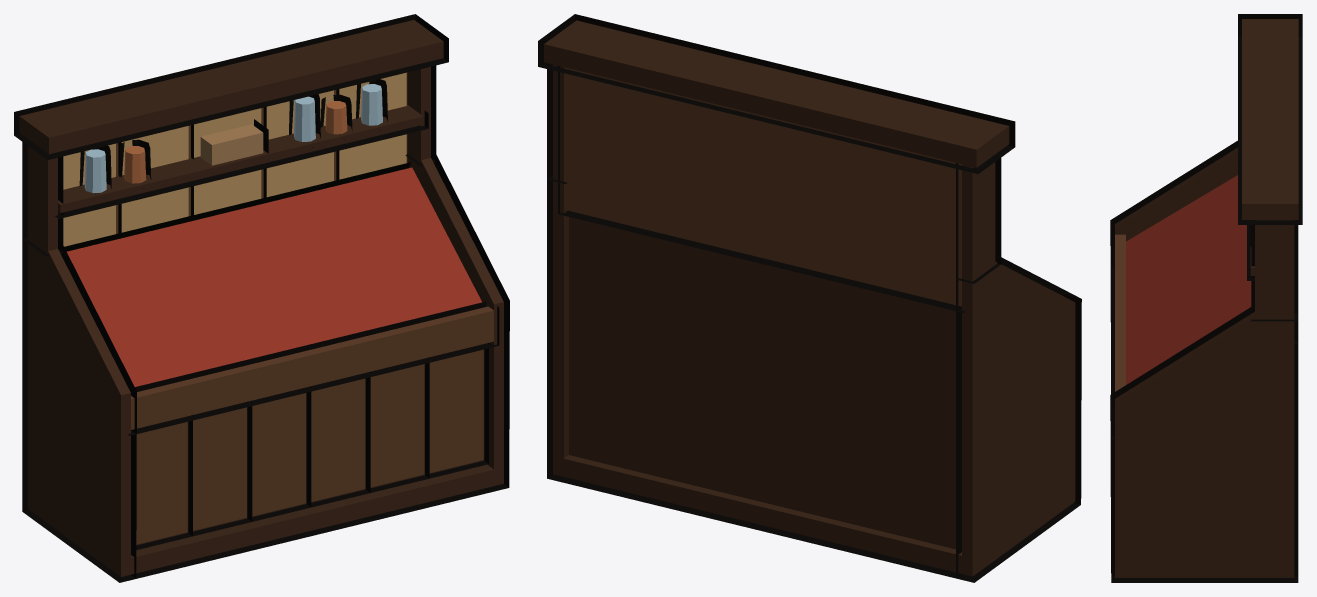
The model's file is cardshelf.glb.
3 views of the same model, side by side, from view 1: azimuth 30°, elevation 25°; view 2: azimuth 150°, elevation 25°; view 3: azimuth 270°, elevation 25° (orthographic). The views are drawn at different scales.
Visible parts, largest first — view 1: Prop_forge_cardshelf; view 2: Prop_forge_cardshelf; view 3: Prop_forge_cardshelf.
Boxes of the visible parts, bbox=[...] form: Prop_forge_cardshelf: bbox=[14, 14, 509, 582]; Prop_forge_cardshelf: bbox=[538, 14, 1081, 582]; Prop_forge_cardshelf: bbox=[1110, 14, 1302, 582].
Bounding box in the file's own units: 2.03 × 1.93 × 0.8782.
